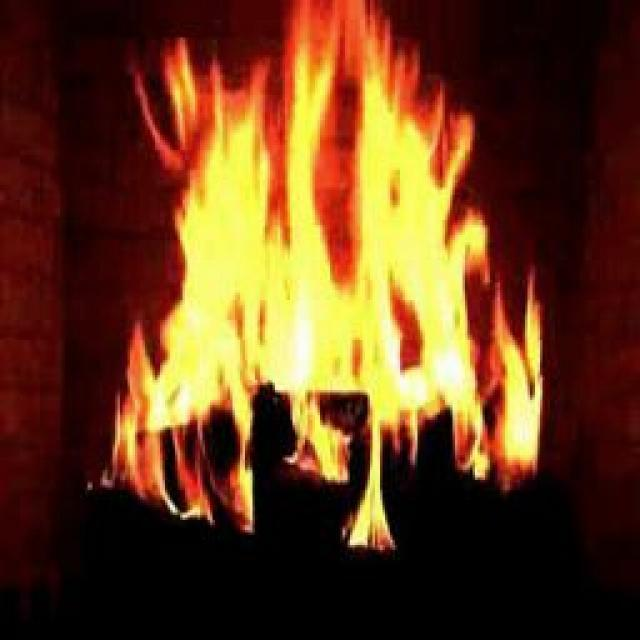Fire: (166, 61, 489, 522)
